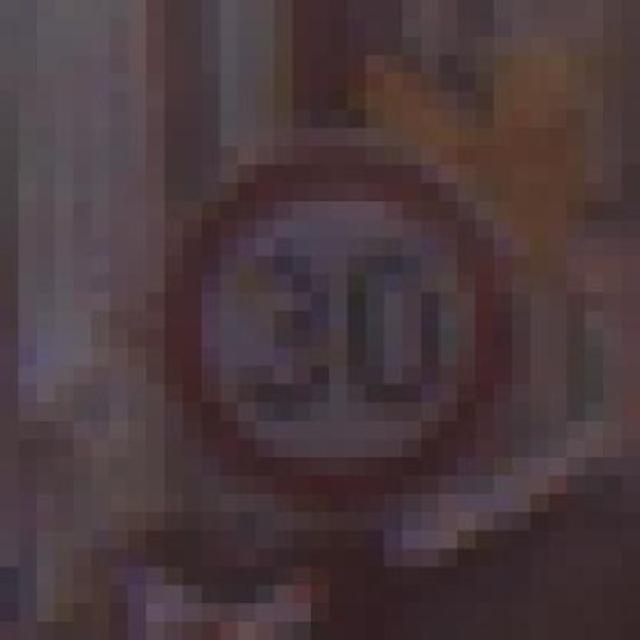Speed Limit 30 KMPh: (110, 110, 604, 567)
